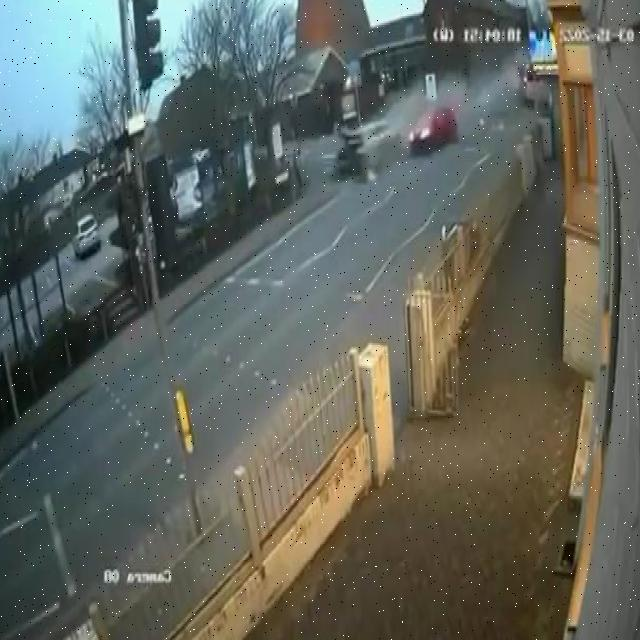accident: (333, 95, 465, 204)
